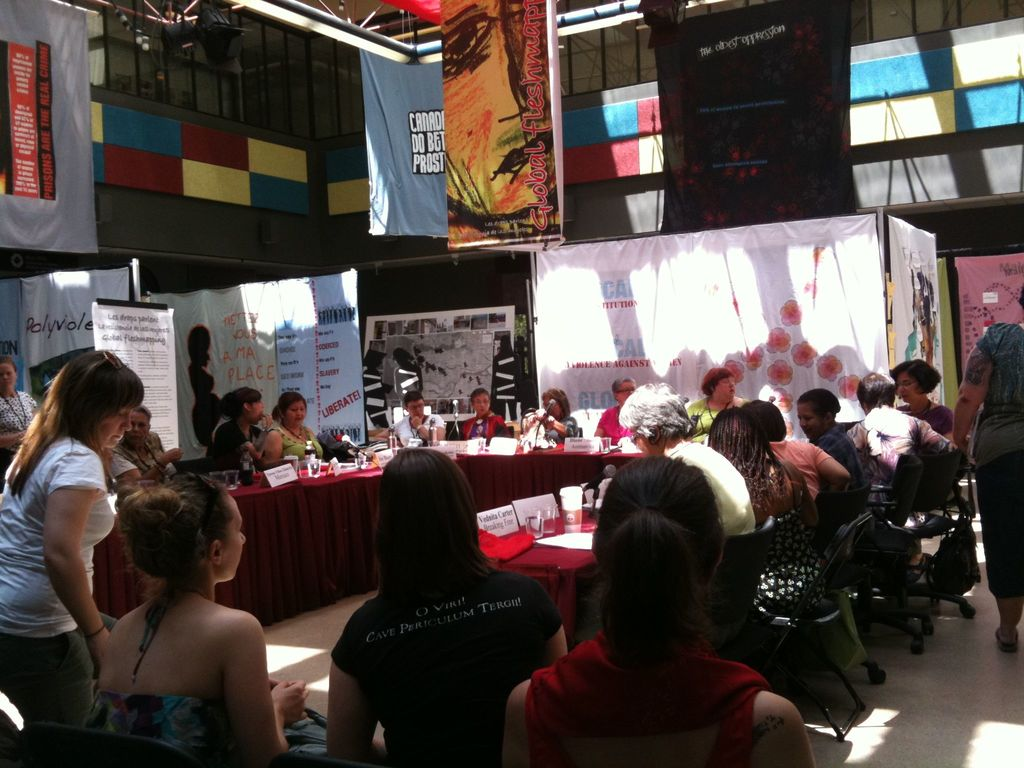Human_hand: (272, 678, 303, 725), (85, 626, 109, 684), (953, 434, 975, 466), (163, 445, 184, 465), (259, 413, 273, 429), (411, 415, 426, 429)
